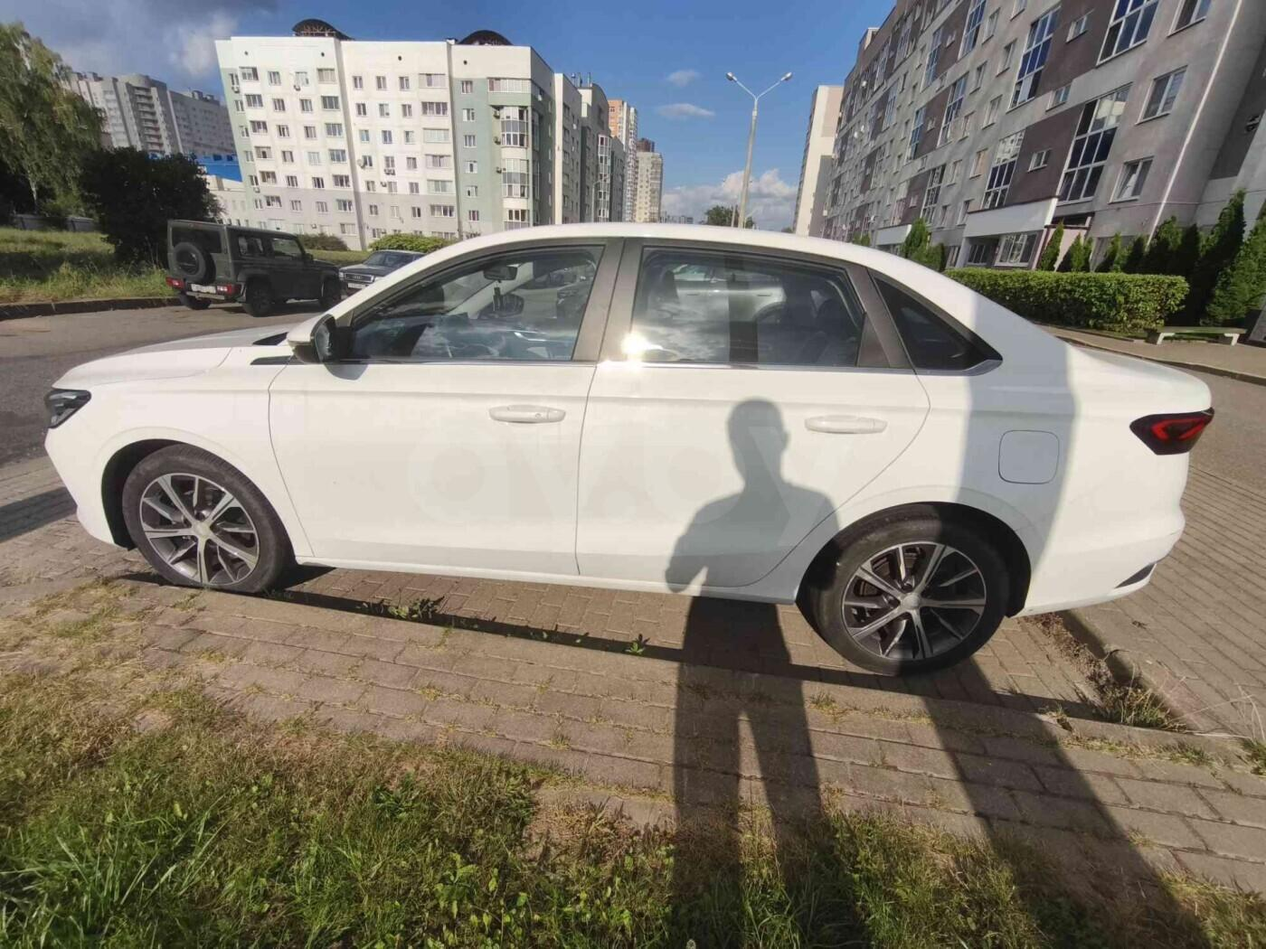Emgrand_2021: (31, 218, 1219, 674)
